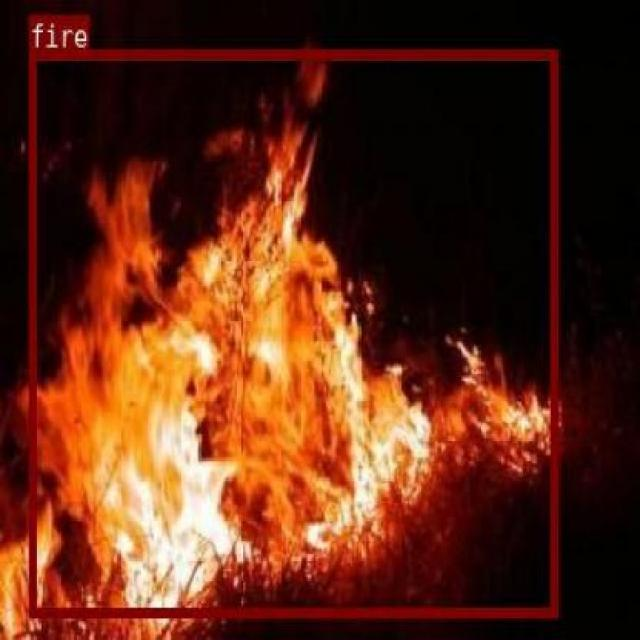fire: (29, 49, 556, 616)
